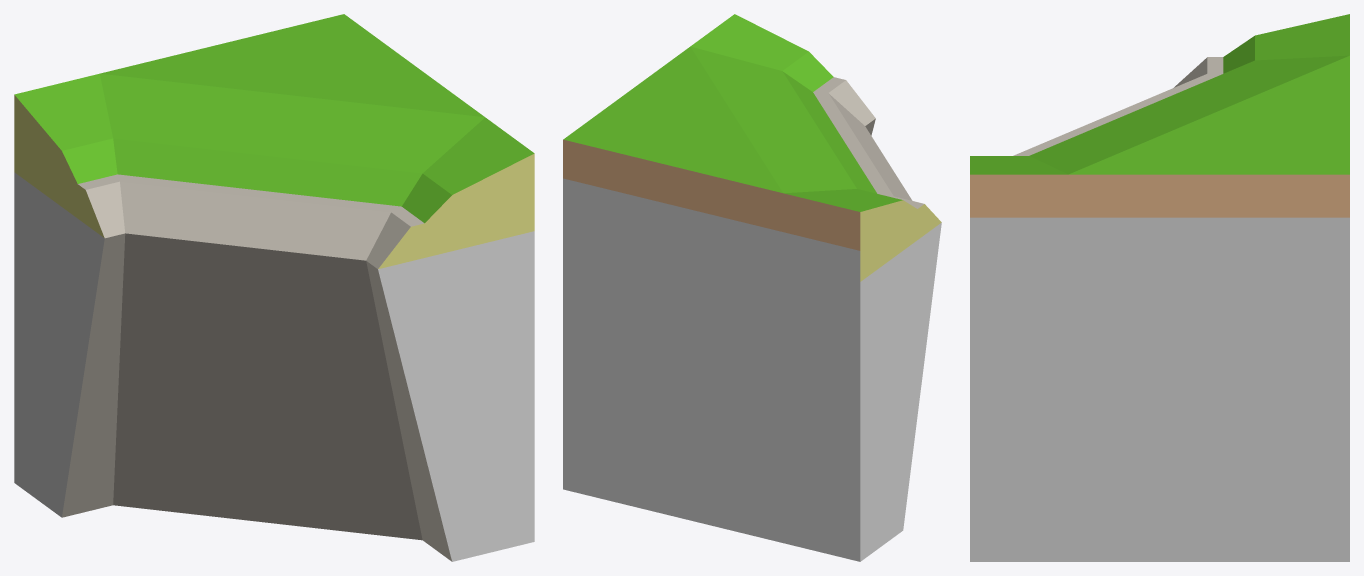
Rendered from Basic_Curve_Inner_2x2_Wide_Top.glb.
3 renders of one model, left to right at view 1: azimuth 30°, elevation 25°; view 2: azimuth 150°, elevation 25°; view 3: azimuth 270°, elevation 25°, orthographic. The views are drawn at different scales.
Parts seen in each view (by area): view 1: Basic_Curve_Inner_2x2_Wide_Top; view 2: Basic_Curve_Inner_2x2_Wide_Top; view 3: Basic_Curve_Inner_2x2_Wide_Top.
Part boxes in pixels (x1,y1,x2,y2): Basic_Curve_Inner_2x2_Wide_Top: [14, 14, 534, 561]; Basic_Curve_Inner_2x2_Wide_Top: [563, 14, 941, 561]; Basic_Curve_Inner_2x2_Wide_Top: [970, 14, 1349, 561].
Bounding box in the file's own units: 200 × 225 × 200.
